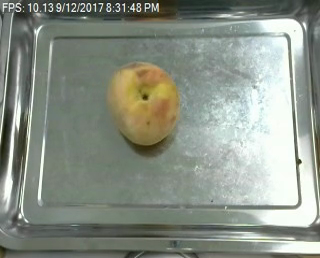Peach: (106, 60, 179, 146)
